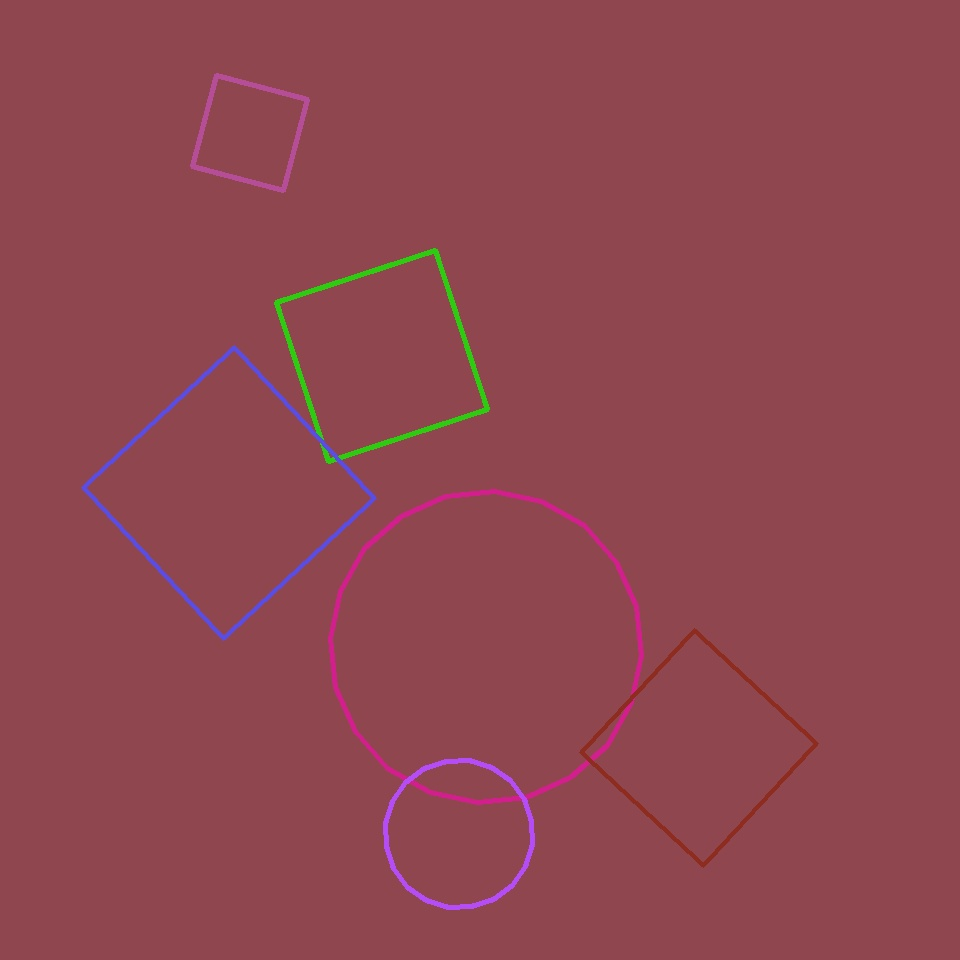square: (84, 348, 374, 638), (582, 630, 816, 866), (276, 251, 488, 462), (192, 76, 308, 191)
triangle: (330, 492, 642, 802), (386, 760, 532, 908)
